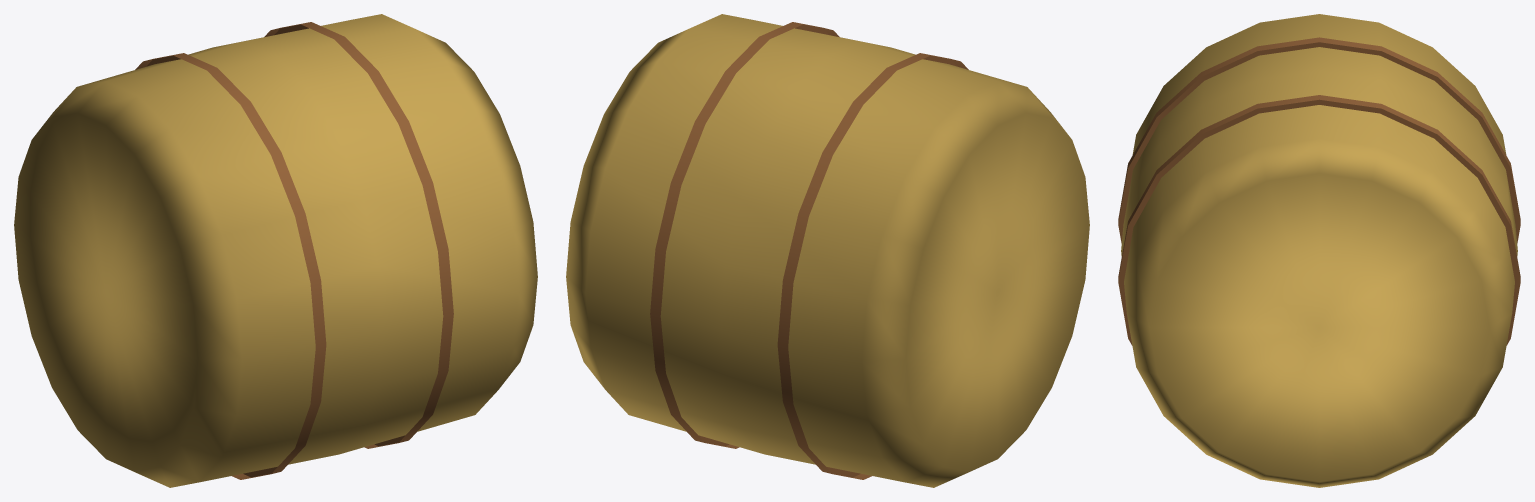
File: furn_od_haybale.glb
The picture shows the model from 3 angles, left to right: view 1: azimuth 30°, elevation 25°; view 2: azimuth 150°, elevation 25°; view 3: azimuth 270°, elevation 25°; orthographic projection. The views are drawn at different scales.
Parts seen in each view (by area): view 1: furn_od_haybale_main; view 2: furn_od_haybale_main; view 3: furn_od_haybale_main.
Boxes of the visible parts, box(x1,y1,x2,y2) form: furn_od_haybale_main: box(14, 14, 537, 487); furn_od_haybale_main: box(566, 14, 1089, 487); furn_od_haybale_main: box(1118, 14, 1520, 487).
Bounding box in the file's own units: 0.64 × 0.71 × 0.71.
